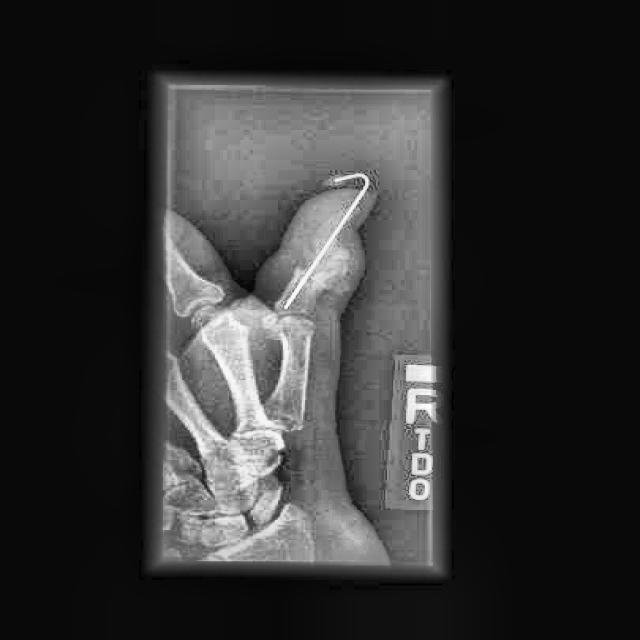fingers positive: (275, 206, 363, 302), (268, 405, 314, 441)
